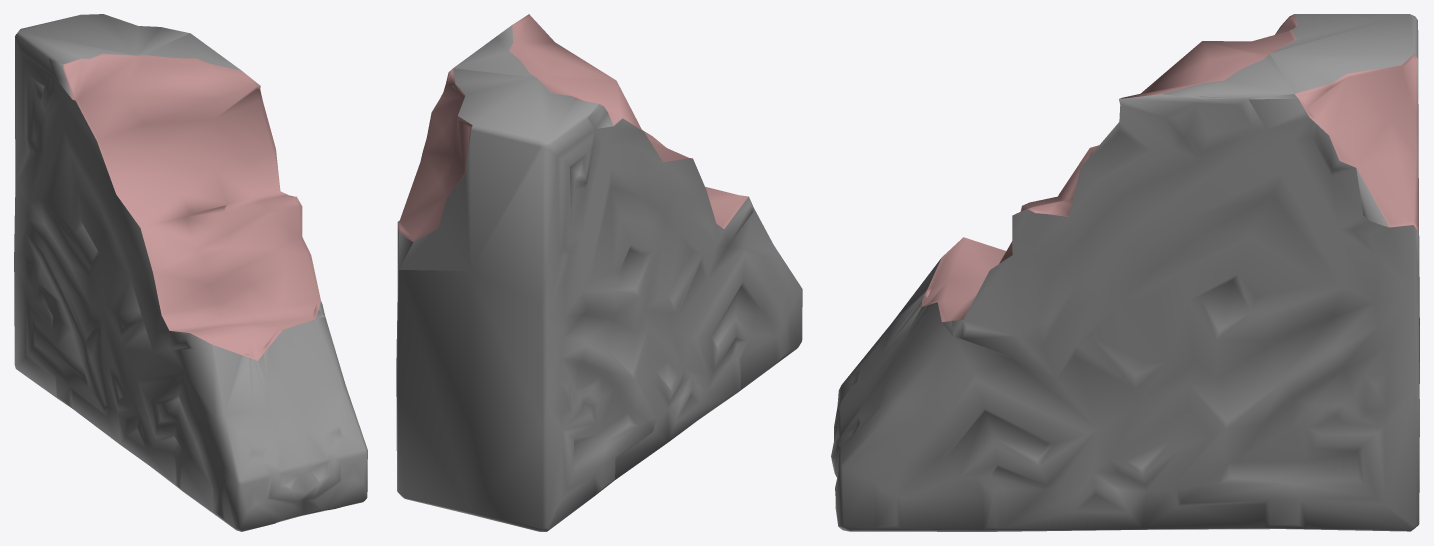
File: RuineBroken13.FBX
3 renders of one model, left to right at view 1: azimuth 30°, elevation 25°; view 2: azimuth 150°, elevation 25°; view 3: azimuth 270°, elevation 25°, orthographic. The views are drawn at different scales.
Visible parts, largest first — view 1: Ruine13; view 2: Ruine13; view 3: Ruine13.
Boxes of the visible parts, x1,y1,x2,y2 form: Ruine13: (14,14,367,531); Ruine13: (396,14,802,531); Ruine13: (831,14,1419,531).
Bounding box in the file's own units: 82.55 × 193 × 235.
